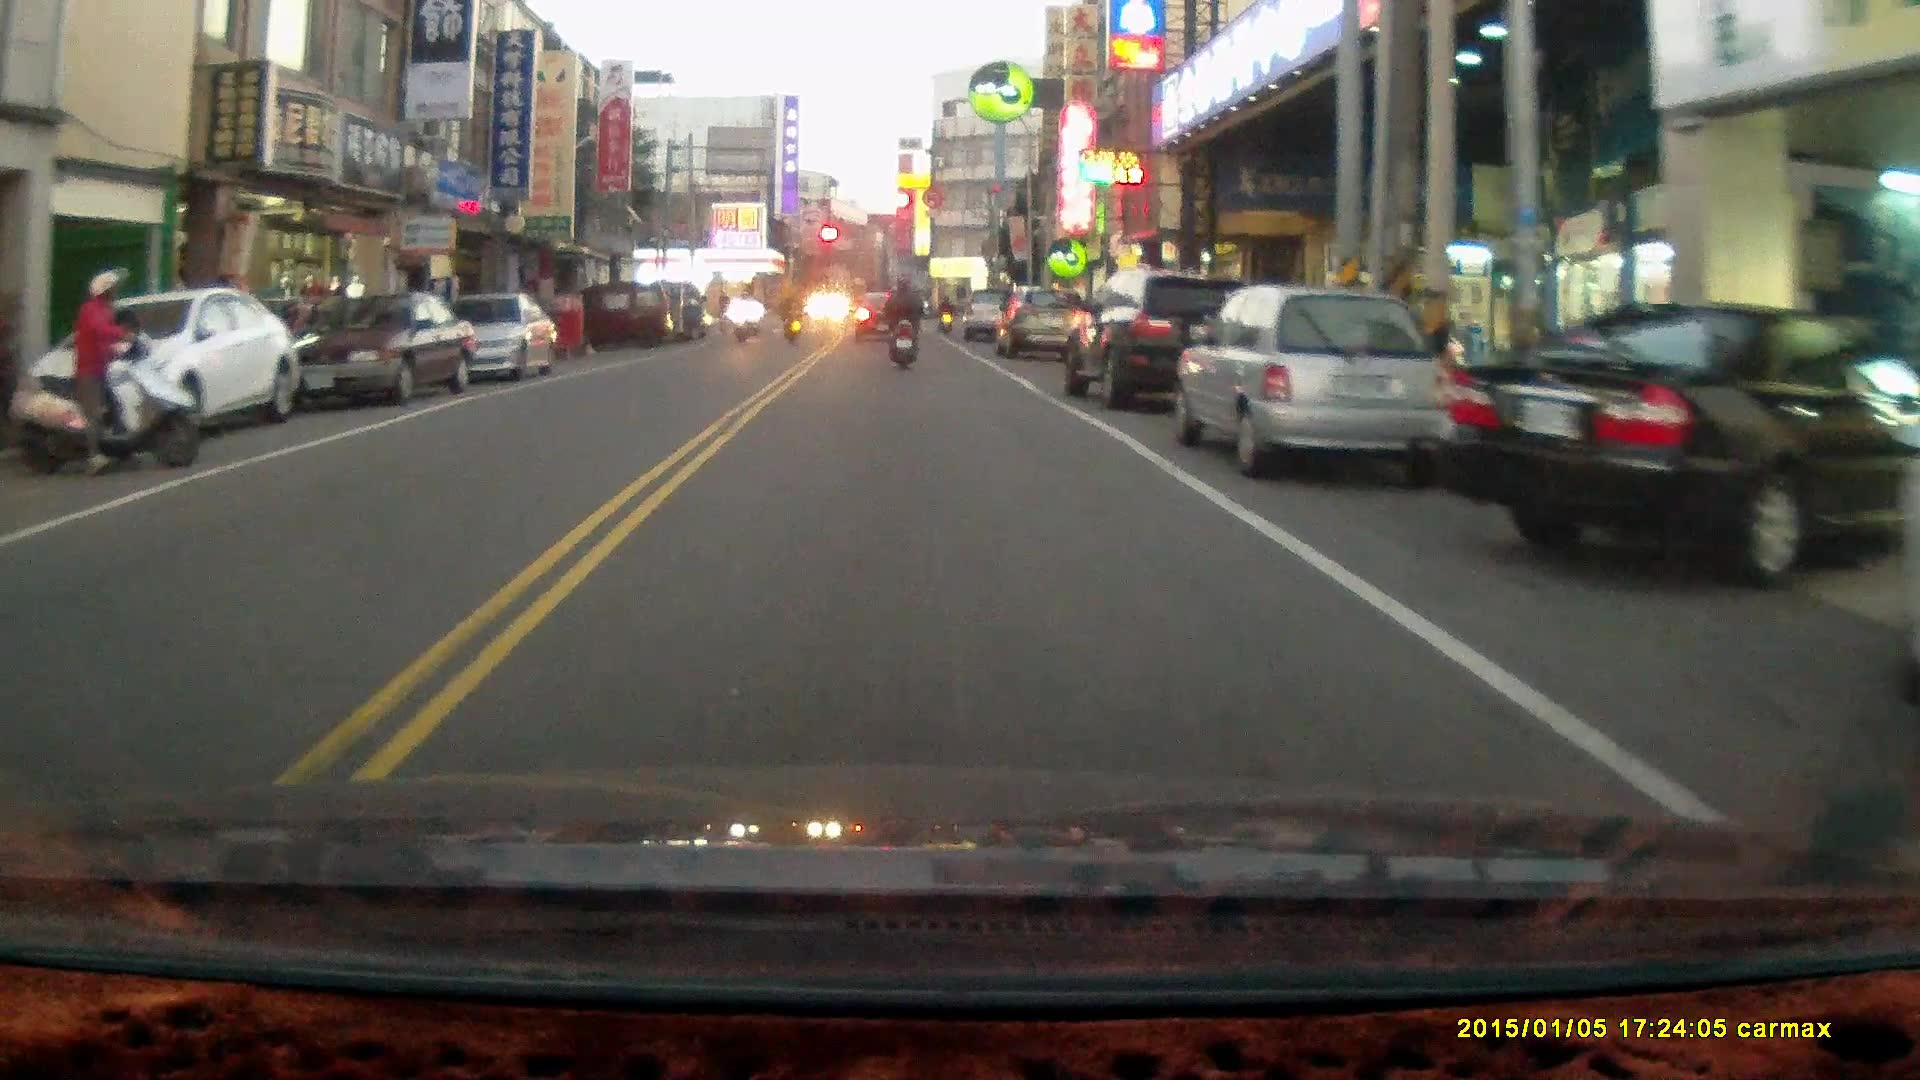rider: (31, 269, 206, 476), (881, 273, 922, 371), (778, 290, 805, 349), (733, 291, 757, 346), (713, 290, 734, 344), (932, 291, 954, 335)
vehicle: (1436, 299, 1920, 596), (1168, 294, 1450, 483), (8, 285, 300, 448), (1059, 271, 1270, 416), (268, 296, 474, 412), (431, 294, 561, 389), (1001, 290, 1082, 364), (590, 289, 672, 355)
